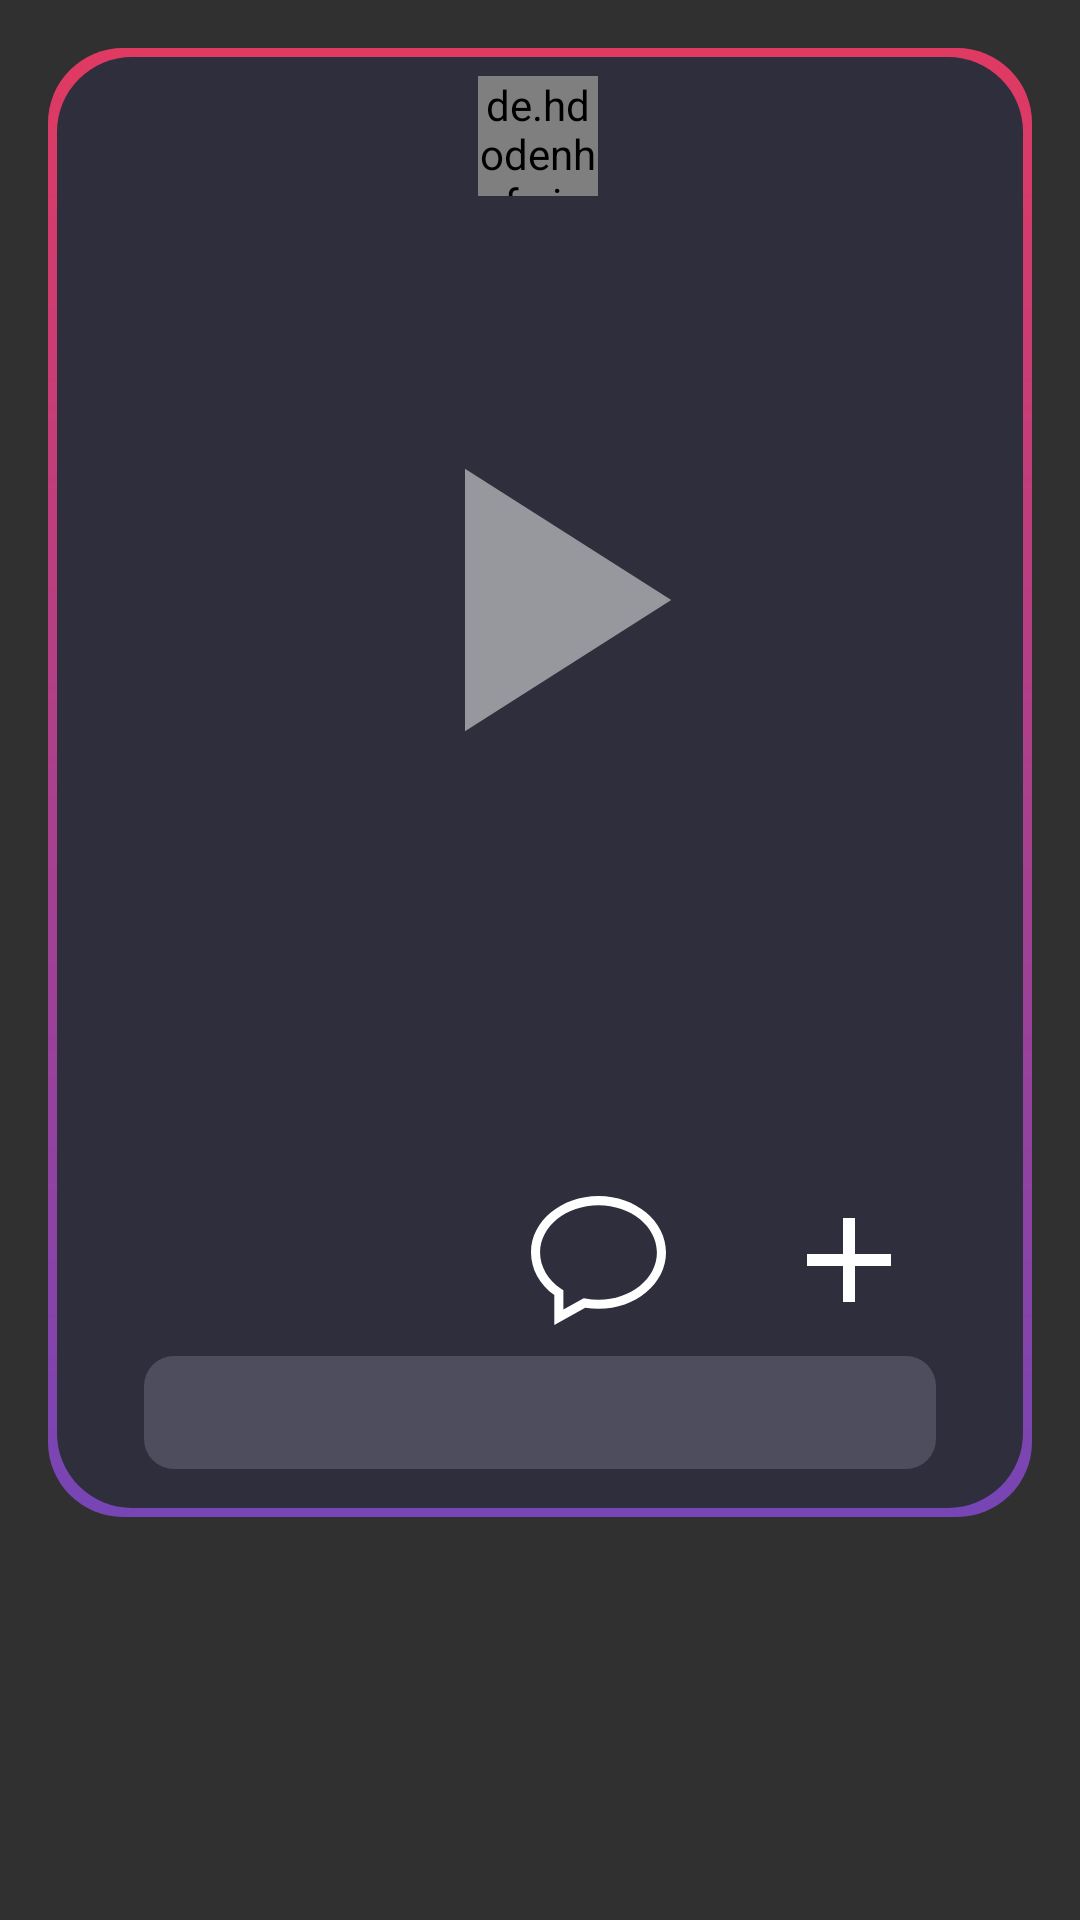

Icons on this 1080 × 1920 Android screen, each with its box as (x1=x1, y1=y1, x2=x2, y2=y2):
add icon: (x1=807, y1=1218, x2=891, y2=1302)
comment icon: (x1=531, y1=1196, x2=666, y2=1325)
play/pause icon: (x1=465, y1=469, x2=671, y2=731)
